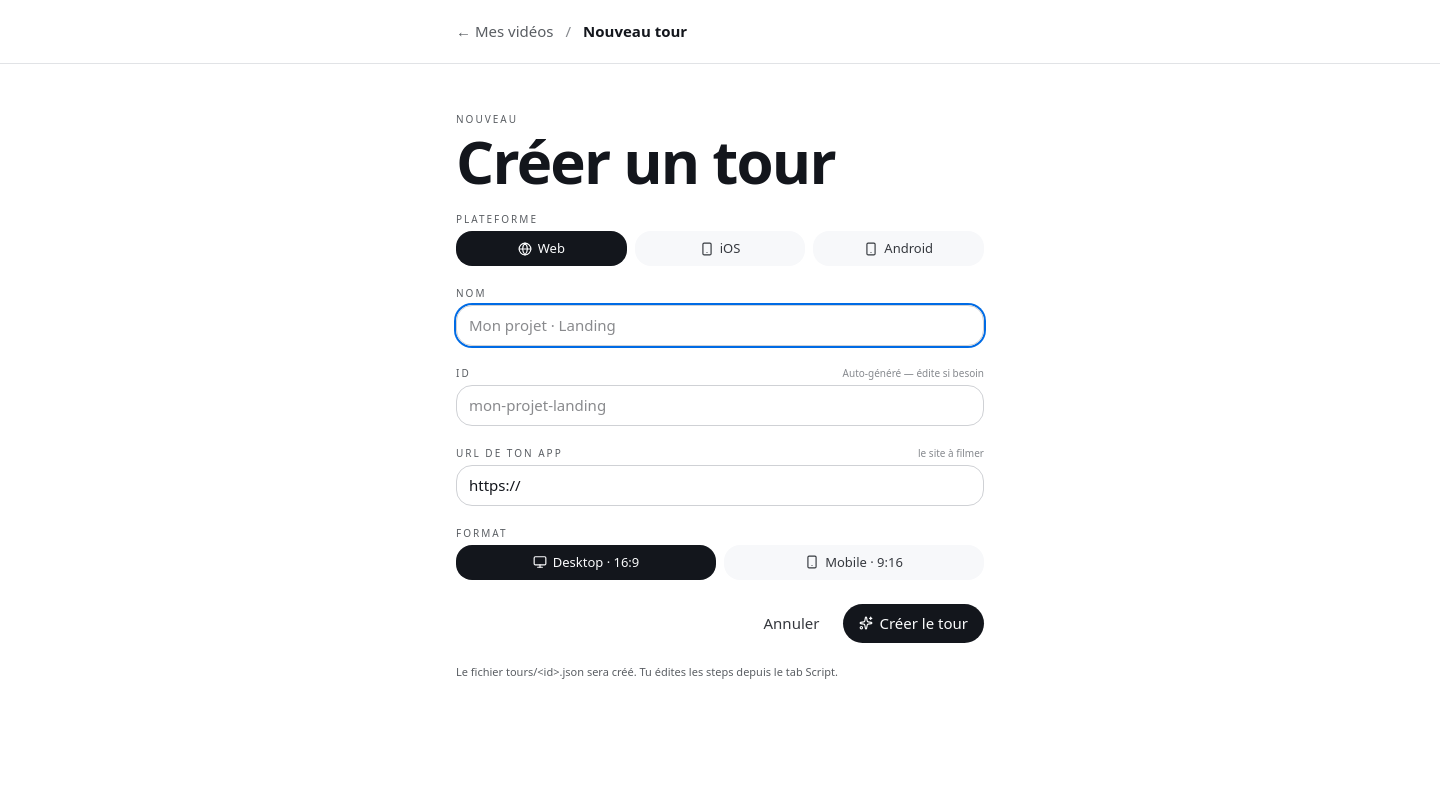
Nouveau tour (page pleine, plus un popup) › refuse une URL invalide pour un tour web
The image size is (1440, 810).
Type "Mon projet" into the field with placeholder "Mon projet · Landing" at (720, 325), box [456, 305, 984, 346]
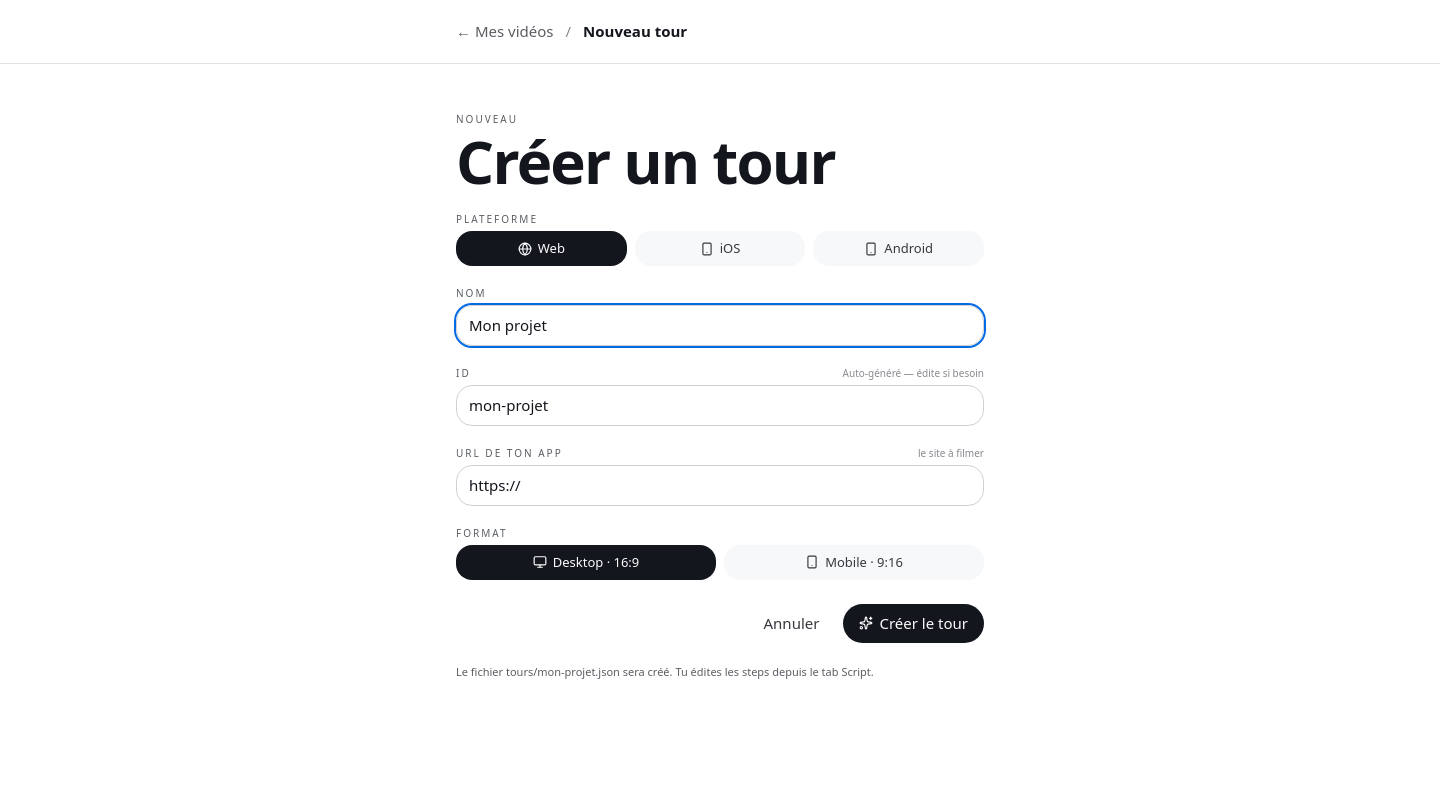
Replace the text in the field with placeholder "https://mon-app.com" below "URL de ton app" with "pas-une-url" at (720, 486), box [456, 465, 984, 506]
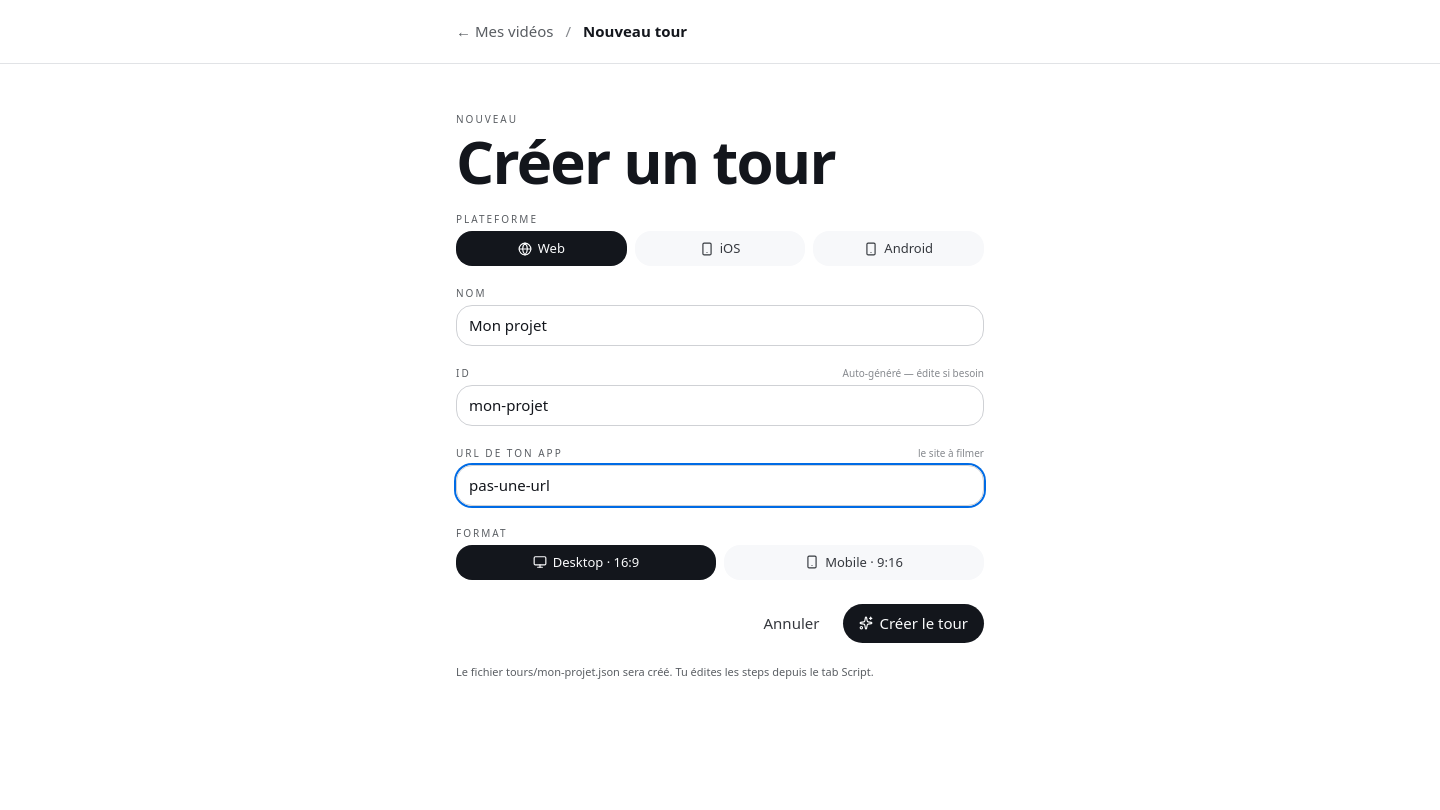
Click the button "Créer le tour" at (914, 623), box [843, 604, 984, 643]
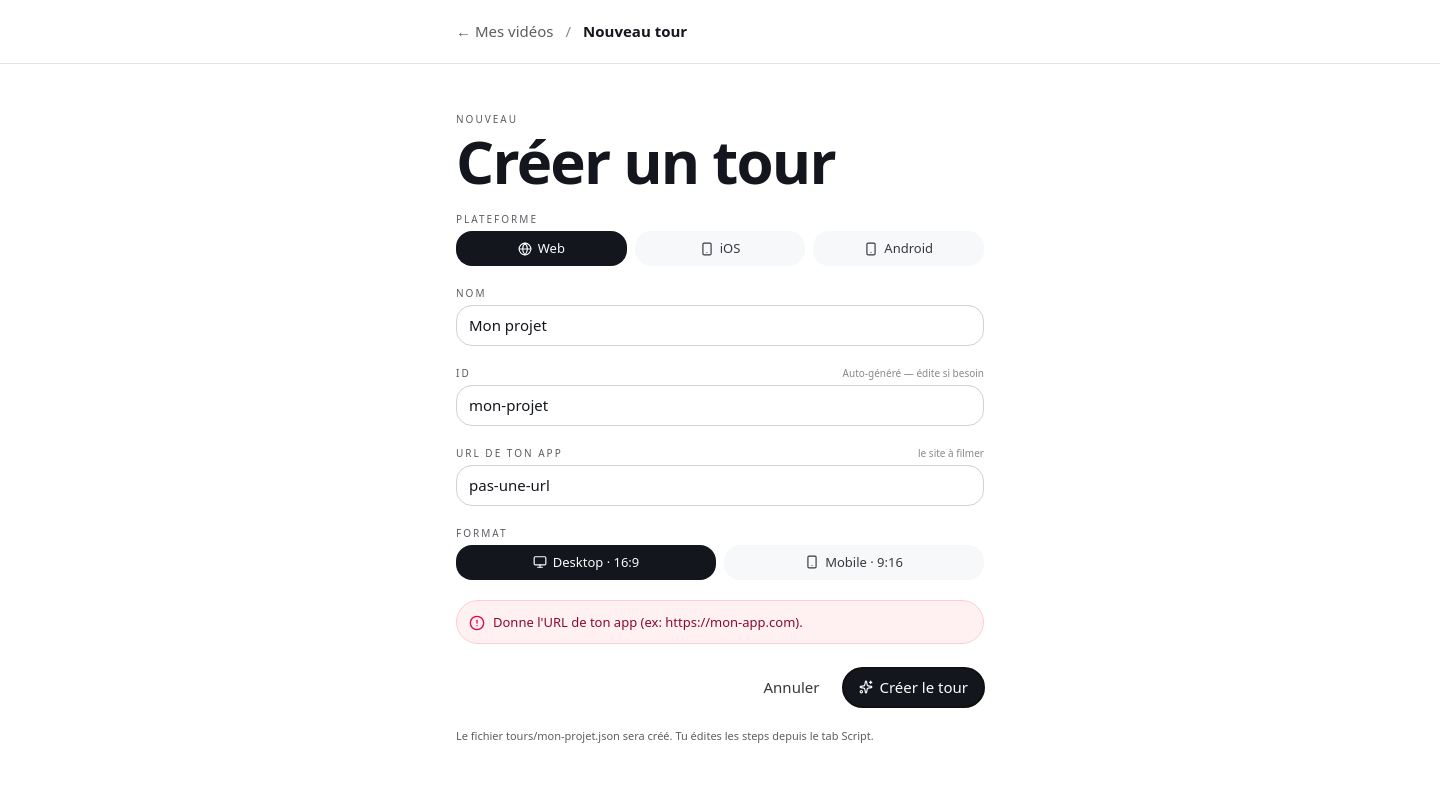
Check: the text "Donne l'URL de ton app (ex: https://mon-app.com)." is shown, box [493, 613, 803, 631]
